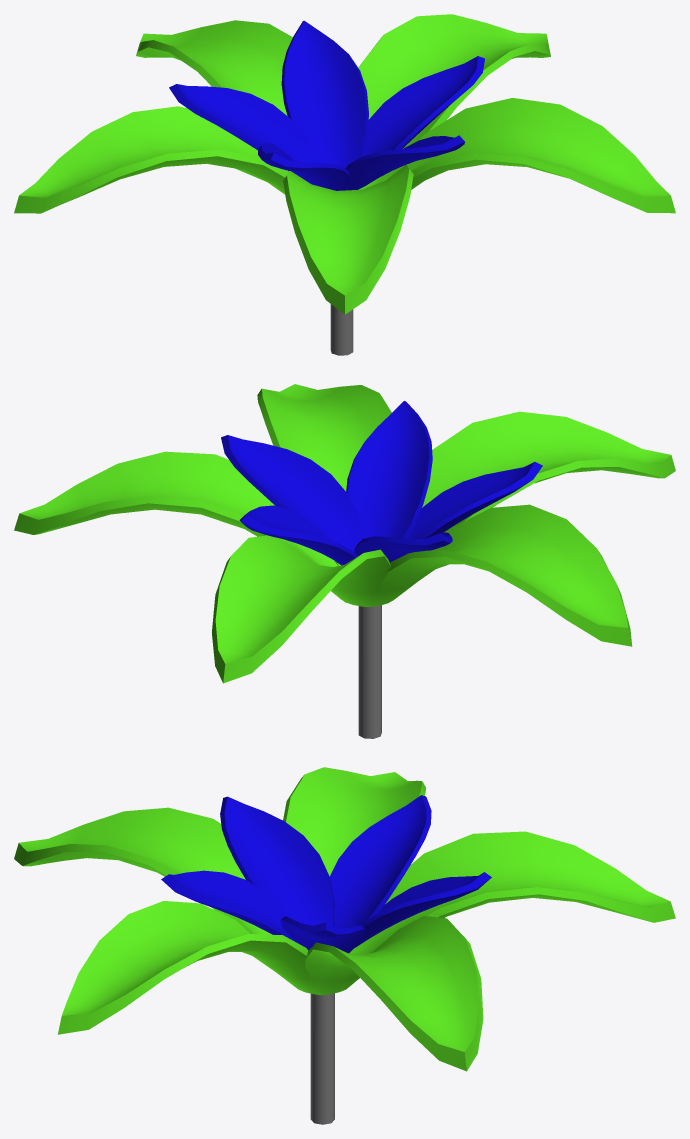
The model's file is Flower_low.fbx.
3 renders of one model, top to bottom at view 1: azimuth 30°, elevation 25°; view 2: azimuth 150°, elevation 25°; view 3: azimuth 270°, elevation 25°, orthographic. The views are drawn at different scales.
Parts seen in each view (by area): view 1: Flower_low; view 2: Flower_low; view 3: Flower_low.
Part boxes in pixels (box(x1,y1,x2,y2)): Flower_low: box(14, 14, 675, 355); Flower_low: box(14, 384, 675, 738); Flower_low: box(14, 767, 675, 1124).
Size of the model in its own units: 176 by 77.64 by 174.
